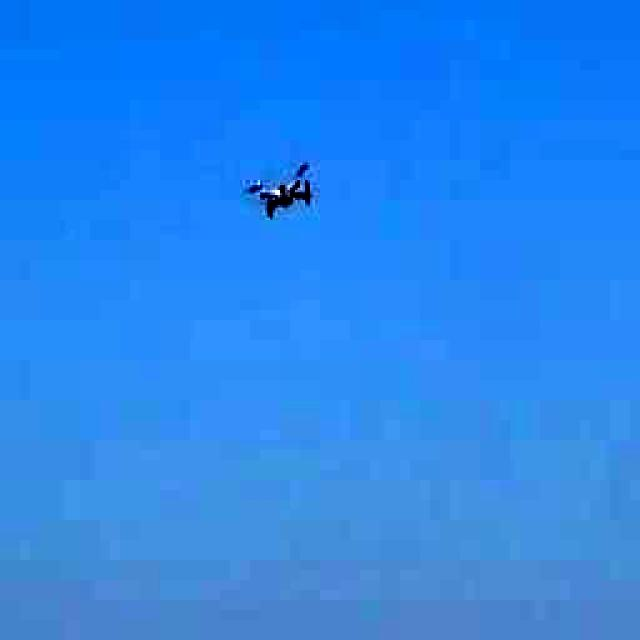bird: (241, 160, 331, 228)
